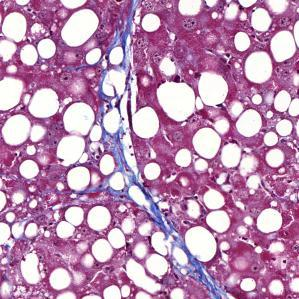fibrosis: (101, 85, 138, 197)
